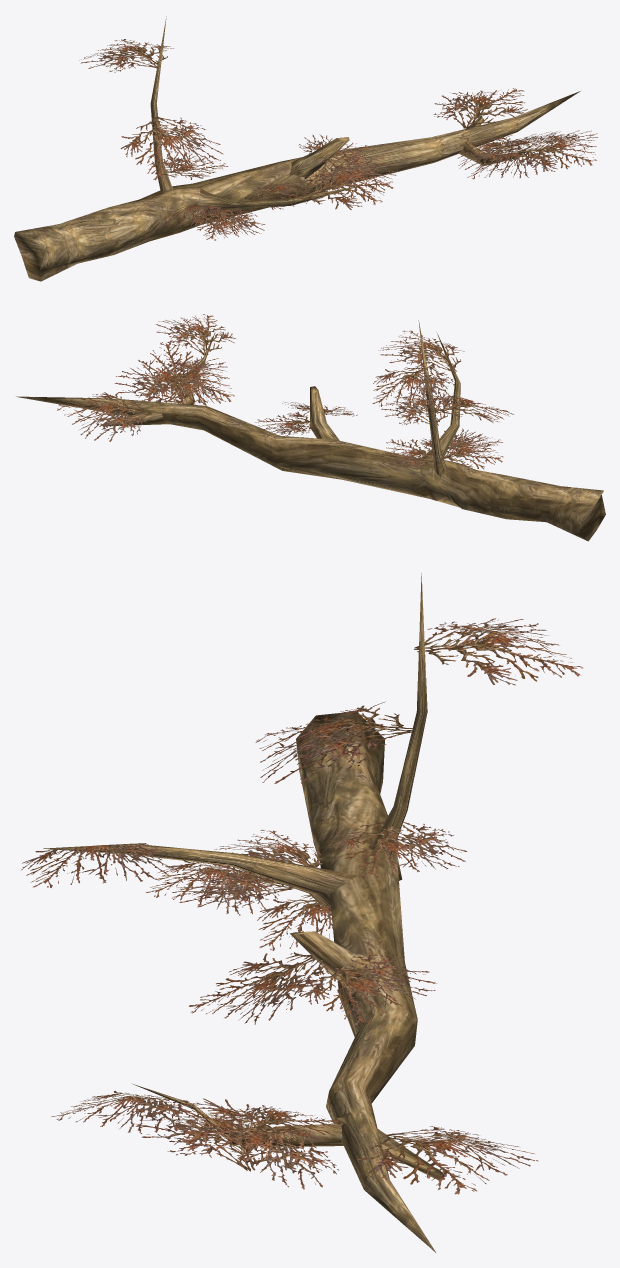
The model's file is S_Tree_Yellow022.FBX.
The picture shows the model from 3 angles, top to bottom: view 1: azimuth 30°, elevation 25°; view 2: azimuth 150°, elevation 25°; view 3: azimuth 270°, elevation 25°; orthographic projection. The views are drawn at different scales.
Visible parts, largest first — view 1: S_Tree_Yellow022; view 2: S_Tree_Yellow022; view 3: S_Tree_Yellow022.
Part boxes in pixels (bbox=[...]): S_Tree_Yellow022: bbox=[14, 16, 597, 281]; S_Tree_Yellow022: bbox=[16, 314, 605, 541]; S_Tree_Yellow022: bbox=[21, 573, 582, 1252].
Bounding box in the file's own units: 1081 × 531 × 369.
